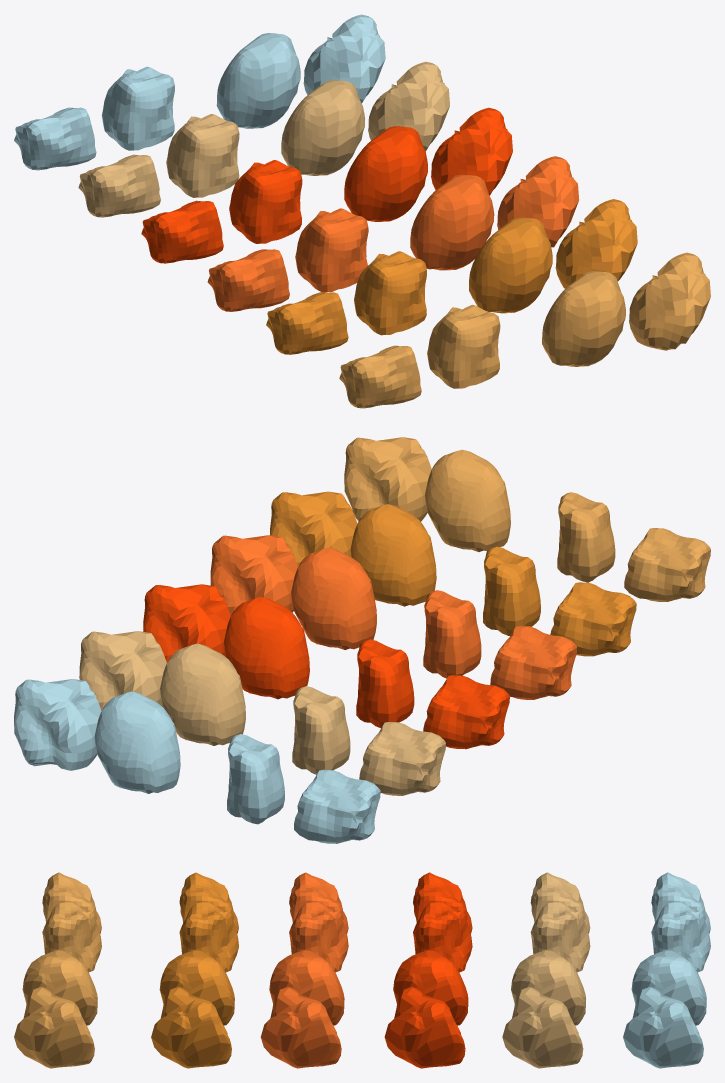
The model's file is rocks.fbx.
The picture shows the model from 3 angles, top to bottom: view 1: azimuth 30°, elevation 25°; view 2: azimuth 150°, elevation 25°; view 3: azimuth 270°, elevation 25°; orthographic projection. The views are drawn at different scales.
Visible parts, largest first — view 1: Cube.012, Cube, Cube.008, Cube.020, Cube.019, Cube.004, Cube.015, Cube.018, Cube.009, Cube.001, Cube.013, Cube.021 (+12 smaller); view 2: Cube.020, Cube.012, Cube.004, Cube.019, Cube.023, Cube.008, Cube, Cube.015, Cube.007, Cube.016, Cube.011, Cube.022 (+12 smaller); view 3: Cube.011, Cube.016, Cube.003, Cube.007, Cube.015, Cube.023, Cube.004, Cube.008, Cube.012, Cube.020, Cube, Cube.019 (+12 smaller).
Part boxes in pixels (<box>): Cube.012: <box>542,271,625,366</box>; Cube: <box>469,217,552,313</box>; Cube.008: <box>344,126,427,221</box>; Cube.020: <box>216,33,300,128</box>; Cube.019: <box>281,80,364,175</box>; Cube.004: <box>410,174,494,270</box>; Cube.015: <box>629,252,710,350</box>; Cube.018: <box>166,114,239,197</box>; Cube.009: <box>229,160,302,243</box>; Cube.001: <box>354,251,426,335</box>; Cube.013: <box>427,304,500,388</box>; Cube.021: <box>101,66,174,150</box>; Cube.020: <box>94,691,180,793</box>; Cube.012: <box>425,449,510,551</box>; Cube.004: <box>291,547,376,649</box>; Cube.019: <box>160,643,245,745</box>; Cube.023: <box>14,679,101,770</box>; Cube.008: <box>224,597,309,699</box>; Cube: <box>350,504,436,606</box>; Cube.015: <box>344,437,431,521</box>; Cube.007: <box>210,535,297,615</box>; Cube.016: <box>79,631,166,710</box>; Cube.011: <box>143,584,230,662</box>; Cube.022: <box>294,769,380,843</box>; Cube.011: <box>384,987,465,1068</box>; Cube.016: <box>502,987,583,1068</box>; Cube.003: <box>151,987,231,1068</box>; Cube.007: <box>260,987,341,1068</box>; Cube.015: <box>14,987,94,1068</box>; Cube.023: <box>623,987,703,1068</box>; Cube.004: <box>269,950,344,1025</box>; Cube.008: <box>393,950,468,1025</box>; Cube.012: <box>22,950,97,1025</box>; Cube.020: <box>631,950,706,1025</box>; Cube: <box>159,950,234,1025</box>; Cube.019: <box>511,950,585,1025</box>.
Bounding box in the file's own units: 1610 × 363 × 2946.
